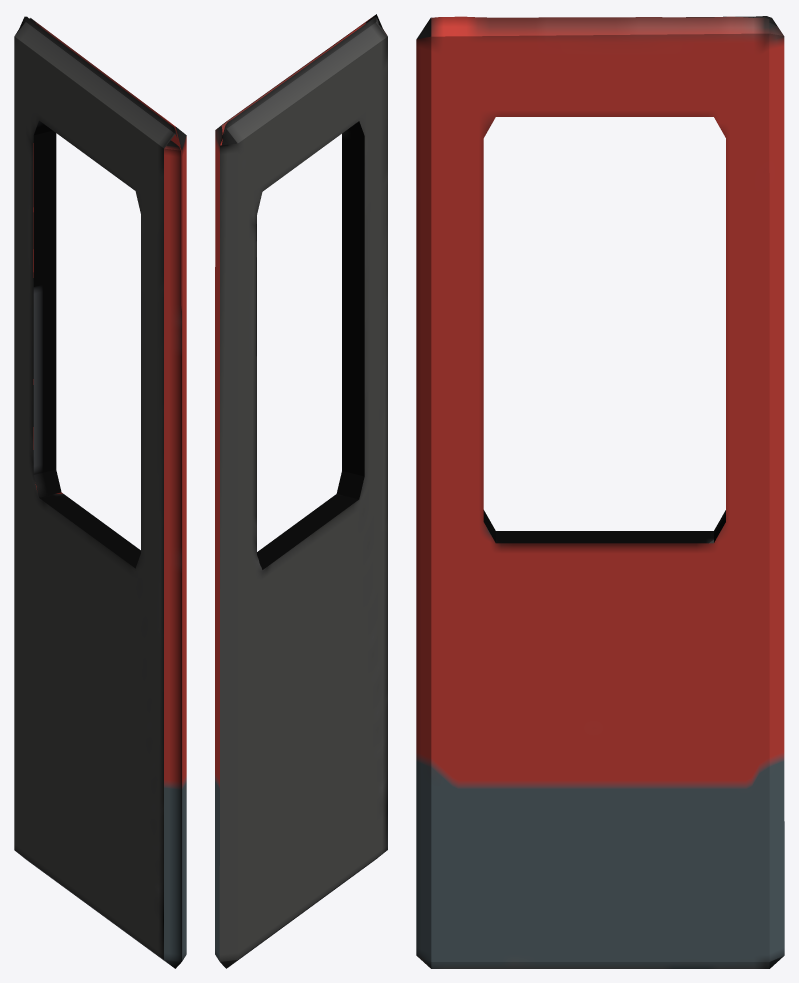
File: cabin door right.obj
The picture shows the model from 3 angles, left to right: view 1: azimuth 30°, elevation 25°; view 2: azimuth 150°, elevation 25°; view 3: azimuth 270°, elevation 25°; orthographic projection. The views are drawn at different scales.
Parts seen in each view (by area): view 1: Cabin_Door_right_Cube.011; view 2: Cabin_Door_right_Cube.011; view 3: Cabin_Door_right_Cube.011.
Boxes of the visible parts, x1,y1,x2,y2 form: Cabin_Door_right_Cube.011: (14, 16, 186, 968); Cabin_Door_right_Cube.011: (215, 14, 387, 968); Cabin_Door_right_Cube.011: (416, 16, 784, 968).
Bounding box in the file's own units: 0.0383 × 1.37 × 0.4788.
